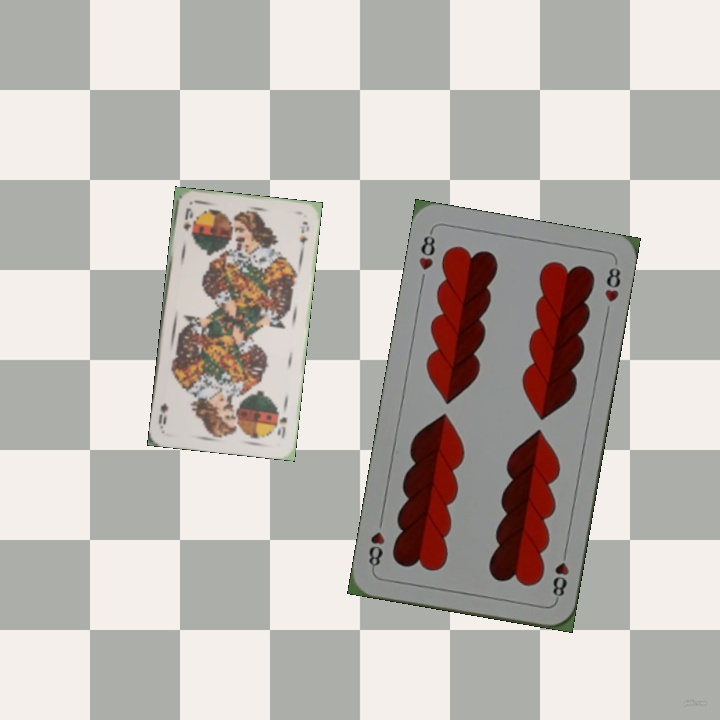H8: (548, 544, 572, 603), (414, 227, 438, 273)
SO: (273, 413, 290, 441), (180, 203, 195, 234)
